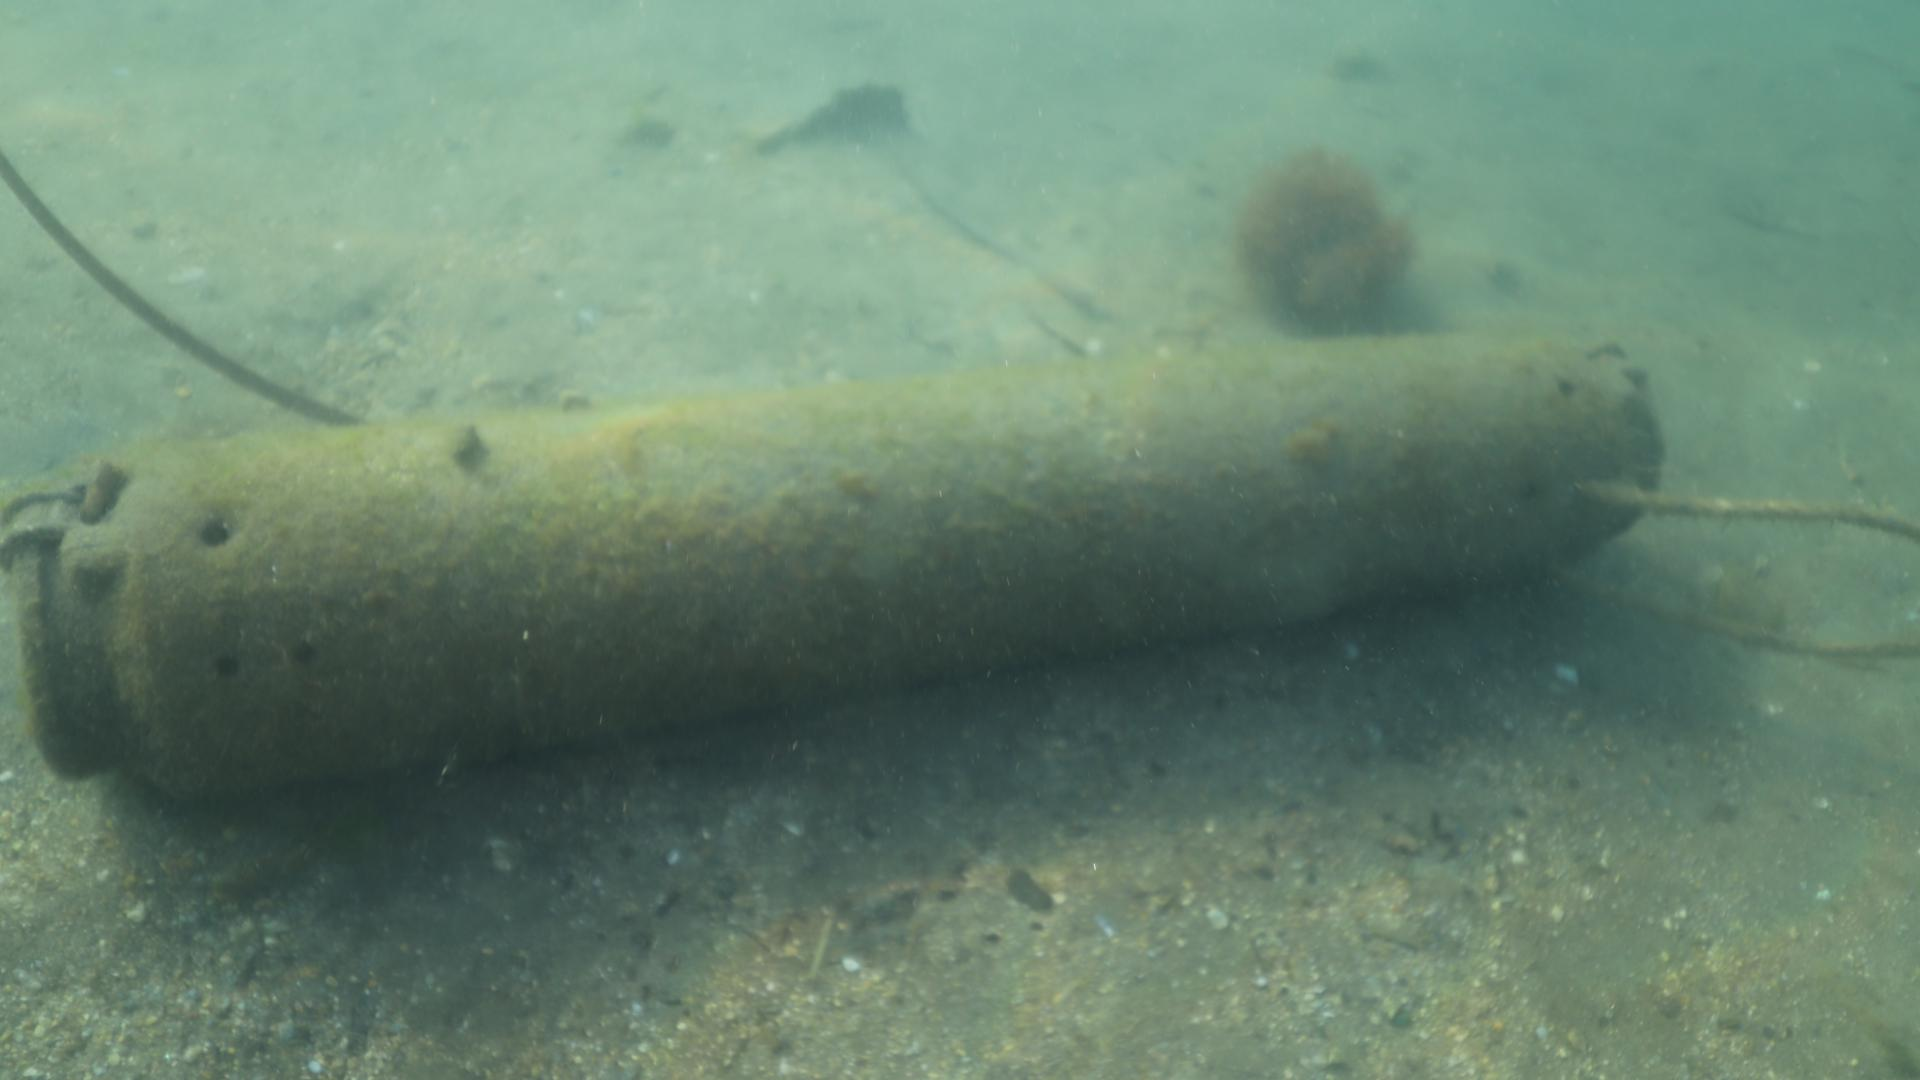eel fish trap: (0, 331, 1667, 807)
rope: (1557, 468, 1920, 663)
